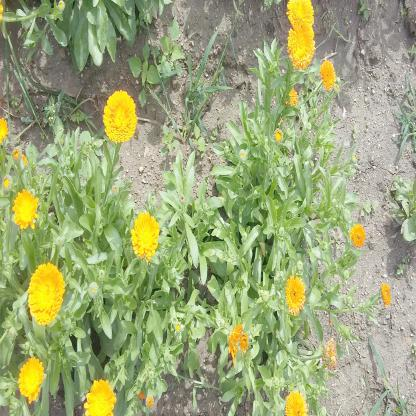marigold: (29, 264, 61, 324), (104, 91, 137, 139), (131, 214, 159, 257), (288, 26, 314, 70), (84, 377, 113, 416), (18, 361, 44, 398), (14, 191, 38, 230), (286, 273, 305, 313), (286, 0, 315, 24), (320, 58, 335, 90), (287, 391, 304, 416)
